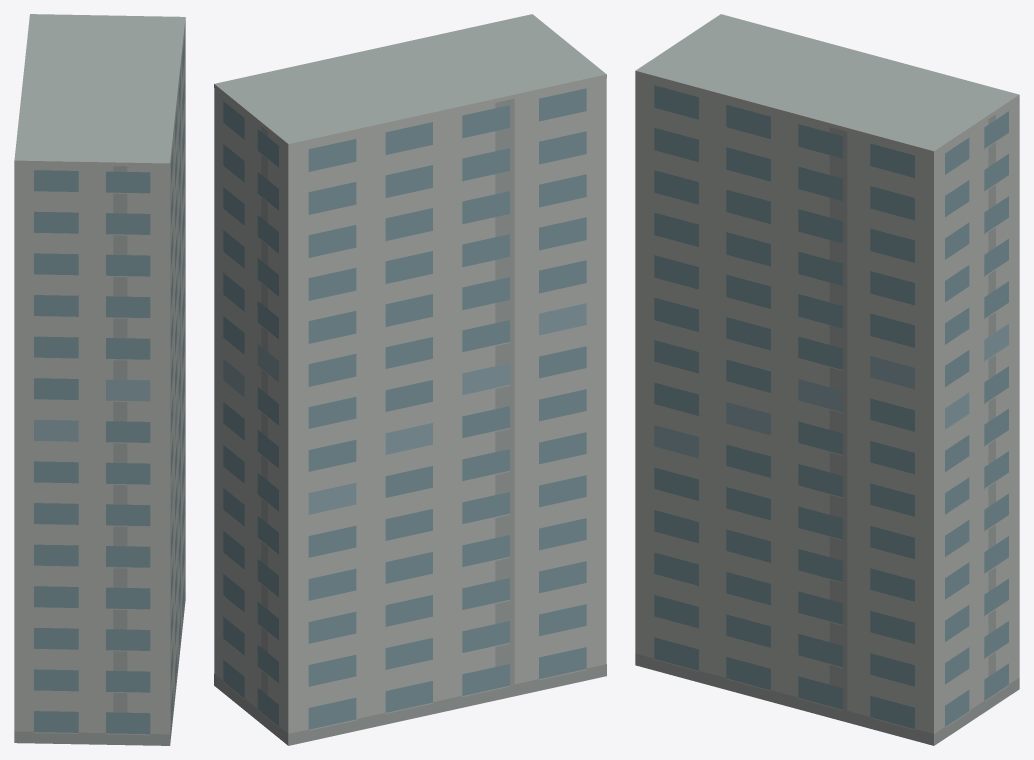
The model's file is residential-e0ec939f-f0e9-49c6-bf93-de5516d721b1.glb.
3 renders of one model, left to right at view 1: azimuth 30°, elevation 25°; view 2: azimuth 150°, elevation 25°; view 3: azimuth 270°, elevation 25°, orthographic. The views are drawn at different scales.
Visible parts, largest first — view 1: residential-e0ec939f-f0e9-49c6-bf93-de5516d721b1.tmp; view 2: residential-e0ec939f-f0e9-49c6-bf93-de5516d721b1.tmp; view 3: residential-e0ec939f-f0e9-49c6-bf93-de5516d721b1.tmp.
Part boxes in pixels (bbox=[...]): residential-e0ec939f-f0e9-49c6-bf93-de5516d721b1.tmp: bbox=[14, 14, 185, 745]; residential-e0ec939f-f0e9-49c6-bf93-de5516d721b1.tmp: bbox=[214, 14, 606, 745]; residential-e0ec939f-f0e9-49c6-bf93-de5516d721b1.tmp: bbox=[635, 14, 1019, 745].
Bounding box in the file's own units: 18.33 × 37 × 21.67.
